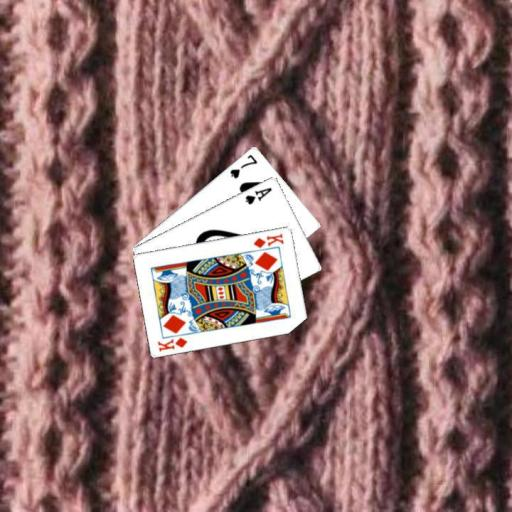7S: (227, 151, 259, 180)
AS: (242, 184, 273, 206)
KD: (250, 231, 285, 250), (155, 334, 189, 353)
